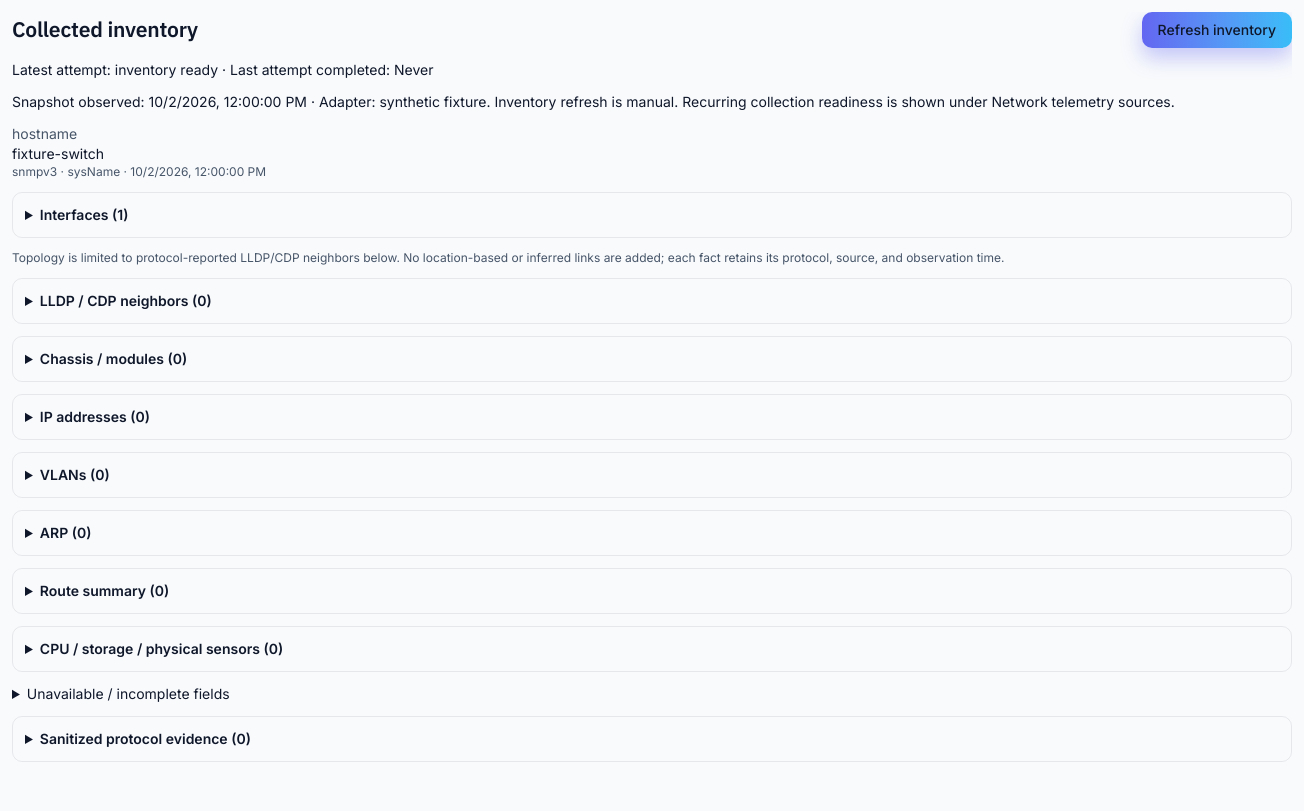
Test case: Network inventory detail › preserves old facts after failed refresh and does not claim a new observation
Expected: the text "fixture-switch" is shown, [12,145,104,162]
Click the button "Refresh inventory" at (1217,30), box [1142,12,1292,48]
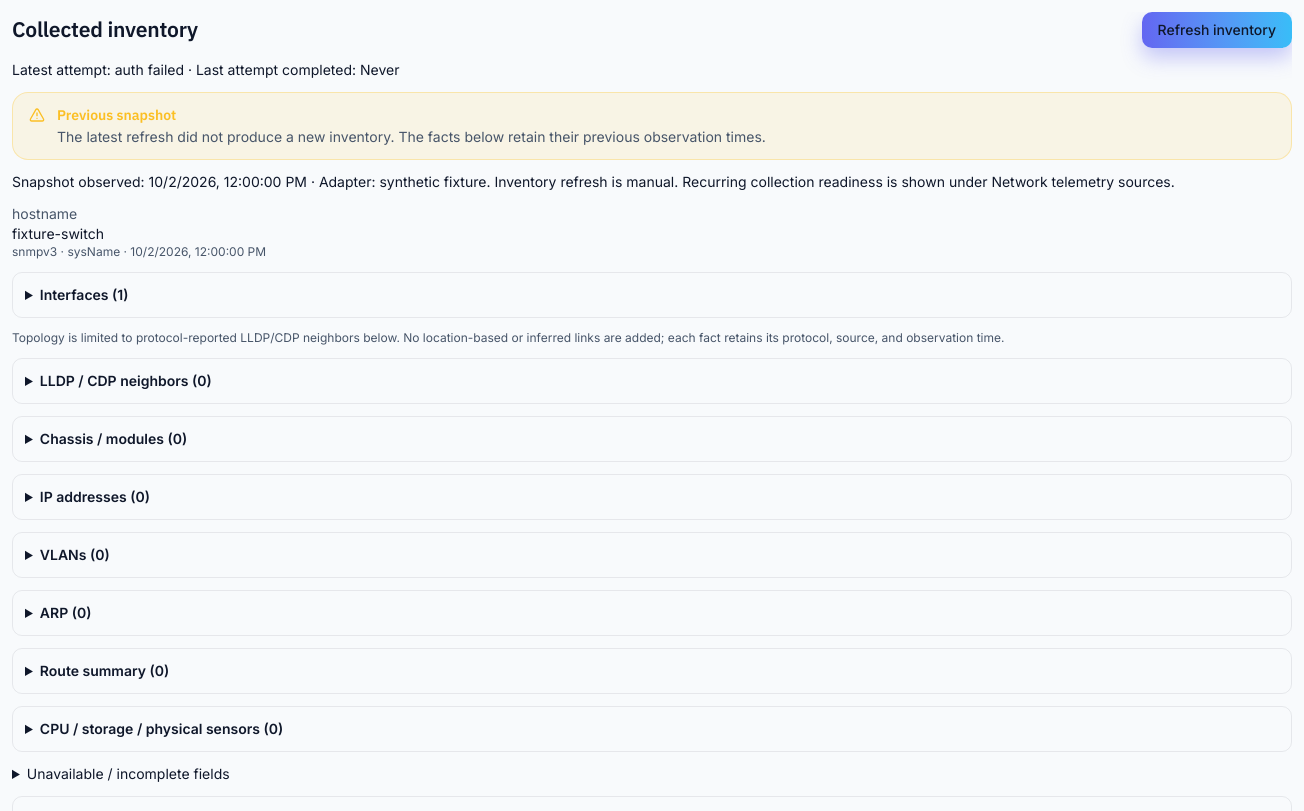
Now the text "Previous snapshot" is shown, box [57,106,176,124]
Now the text "Latest attempt: auth failed · Last attempt completed: Never" is shown, box [12,61,399,78]
Now the text "retain their previous observation times" is shown, box [398,128,766,145]
